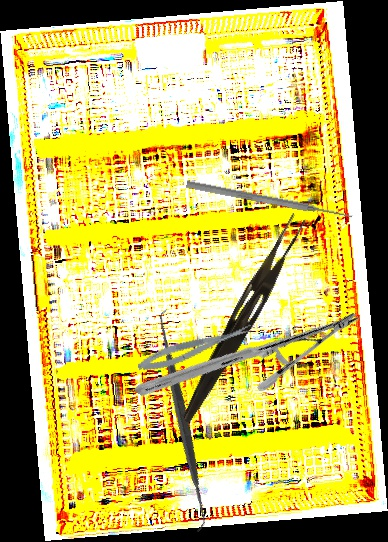Dressing Forceps: (178, 208, 308, 430)
Micro Scissor: (134, 319, 256, 377)
Needle Holder: (134, 238, 360, 470)
Pusher: (185, 178, 354, 223)
Spatula Surgical: (69, 307, 296, 534)
